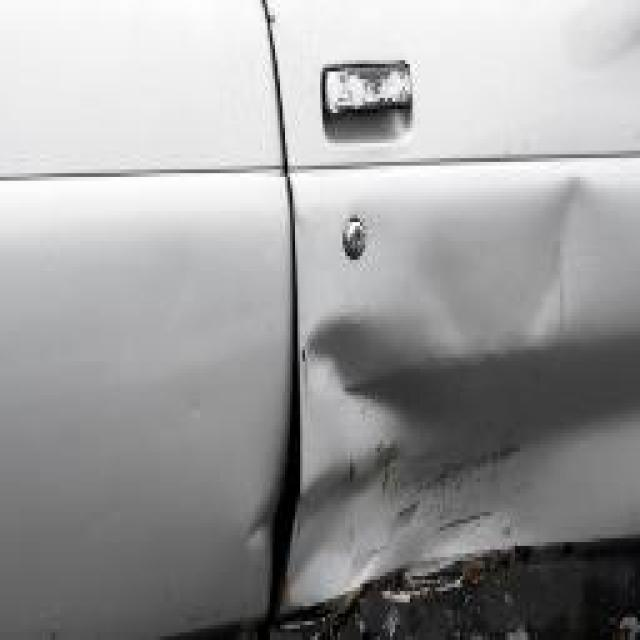Door: (272, 4, 640, 632)
